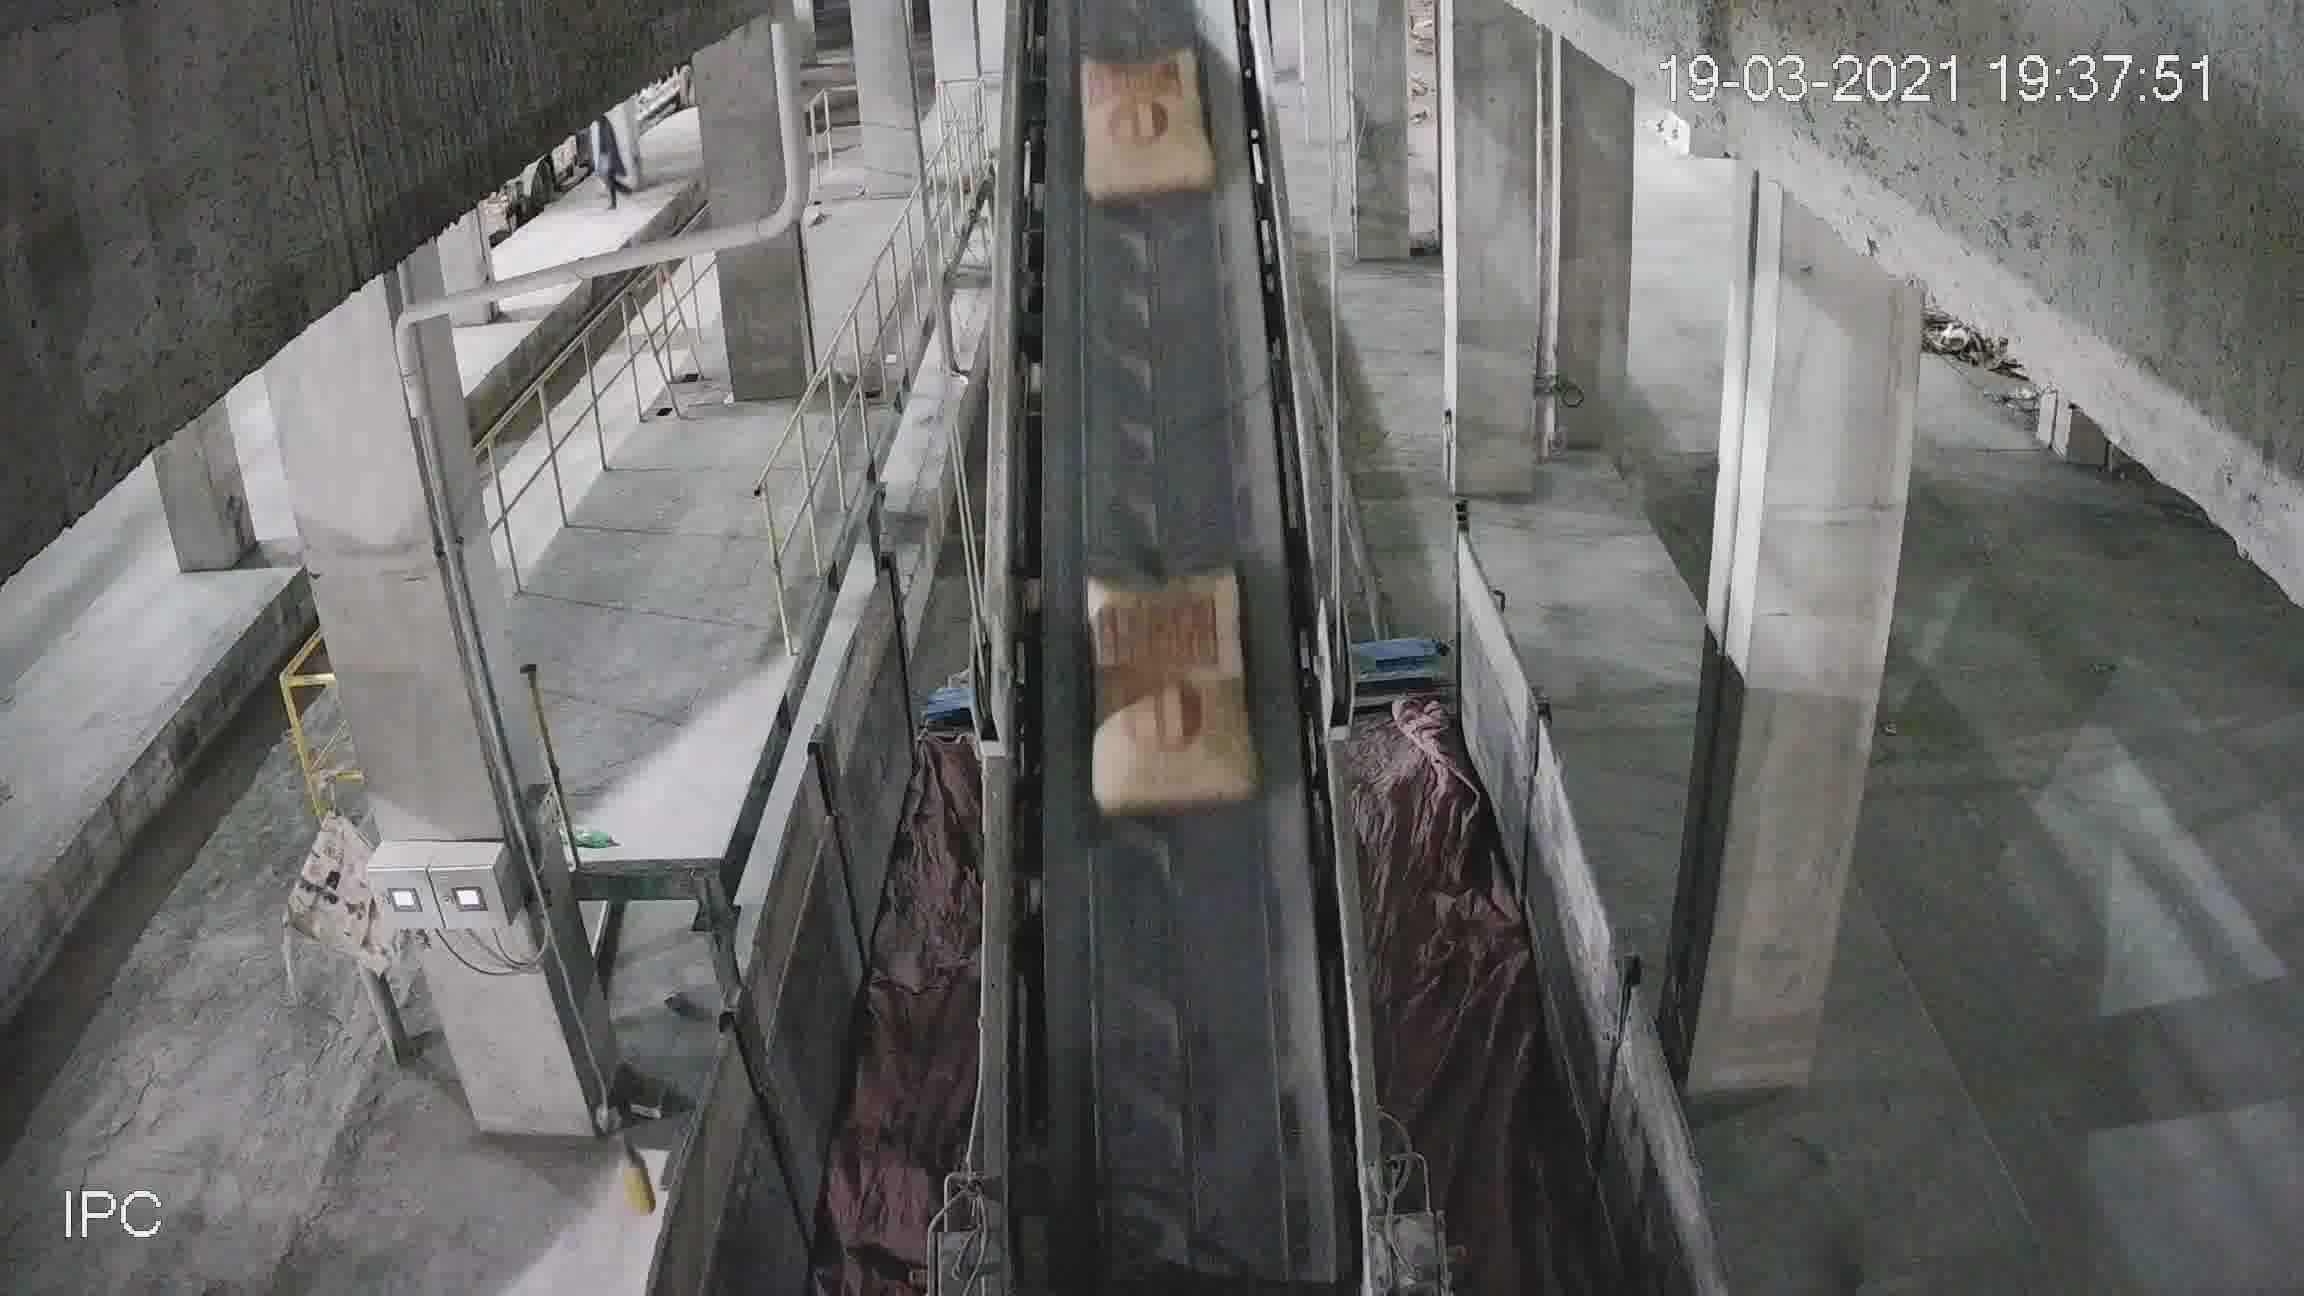bag: (1092, 573, 1253, 818), (1079, 52, 1215, 201)
belt: (983, 85, 1350, 1128)
